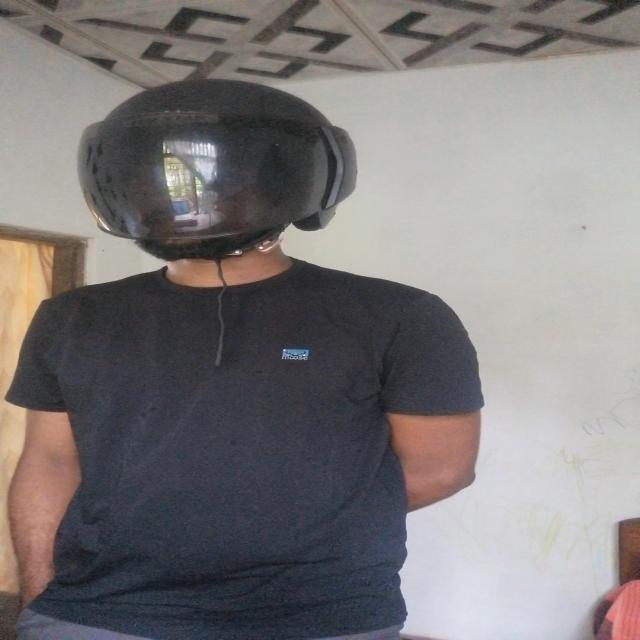Helmet_Wearer: (71, 71, 369, 292)
Person: (0, 61, 484, 640)
